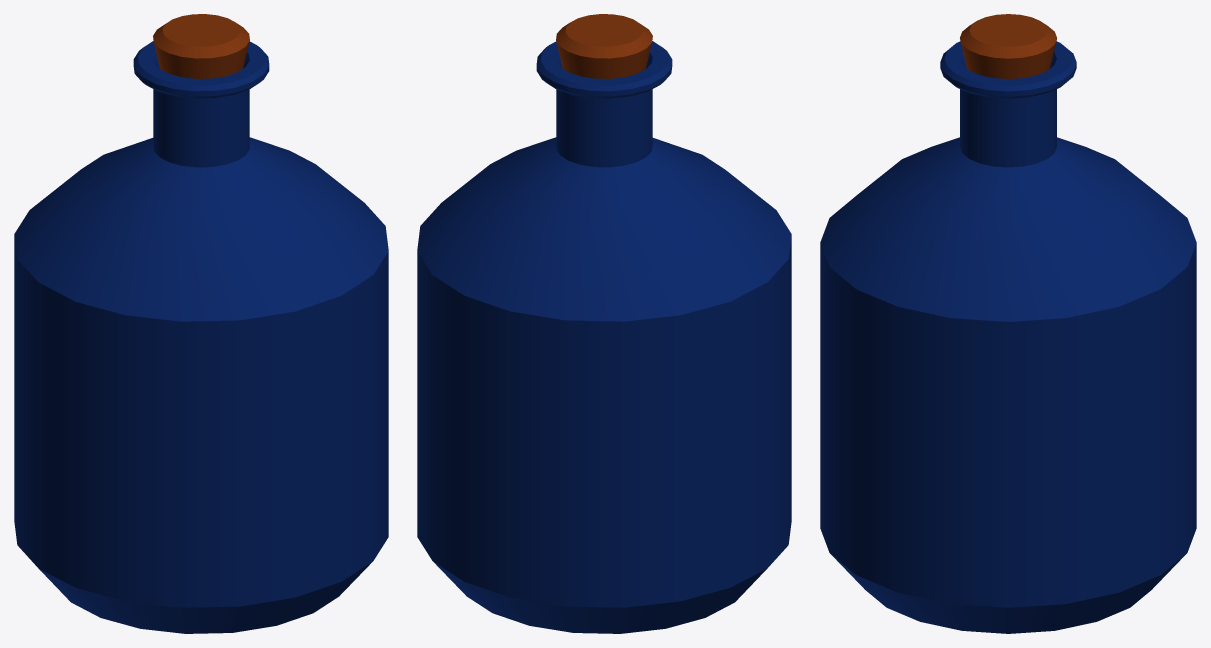
Rendered from MESH_Jar.fbx.
The picture shows the model from 3 angles, left to right: view 1: azimuth 30°, elevation 25°; view 2: azimuth 150°, elevation 25°; view 3: azimuth 270°, elevation 25°; orthographic projection.
Parts seen in each view (by area): view 1: MESH_Jar; view 2: MESH_Jar; view 3: MESH_Jar.
Boxes of the visible parts, x1,y1,x2,y2 form: MESH_Jar: [14, 14, 388, 633]; MESH_Jar: [417, 14, 791, 633]; MESH_Jar: [820, 14, 1196, 633].
Bounding box in the file's own units: 0.1909 × 0.3022 × 0.1909.
